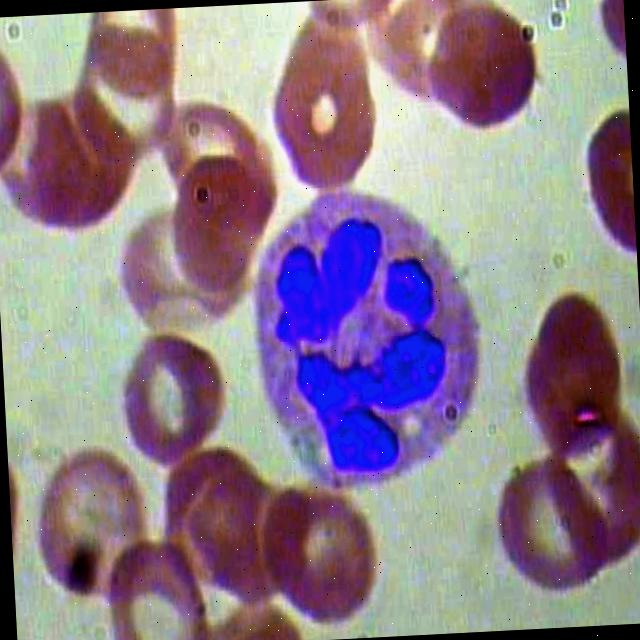RBC: (510, 279, 636, 462), (258, 17, 382, 200), (23, 438, 154, 604), (482, 456, 608, 614), (260, 485, 384, 631), (113, 328, 237, 473), (427, 0, 546, 134), (164, 158, 272, 302), (385, 0, 503, 118), (96, 532, 219, 640), (576, 108, 638, 262)
WBC: (237, 180, 496, 492)
